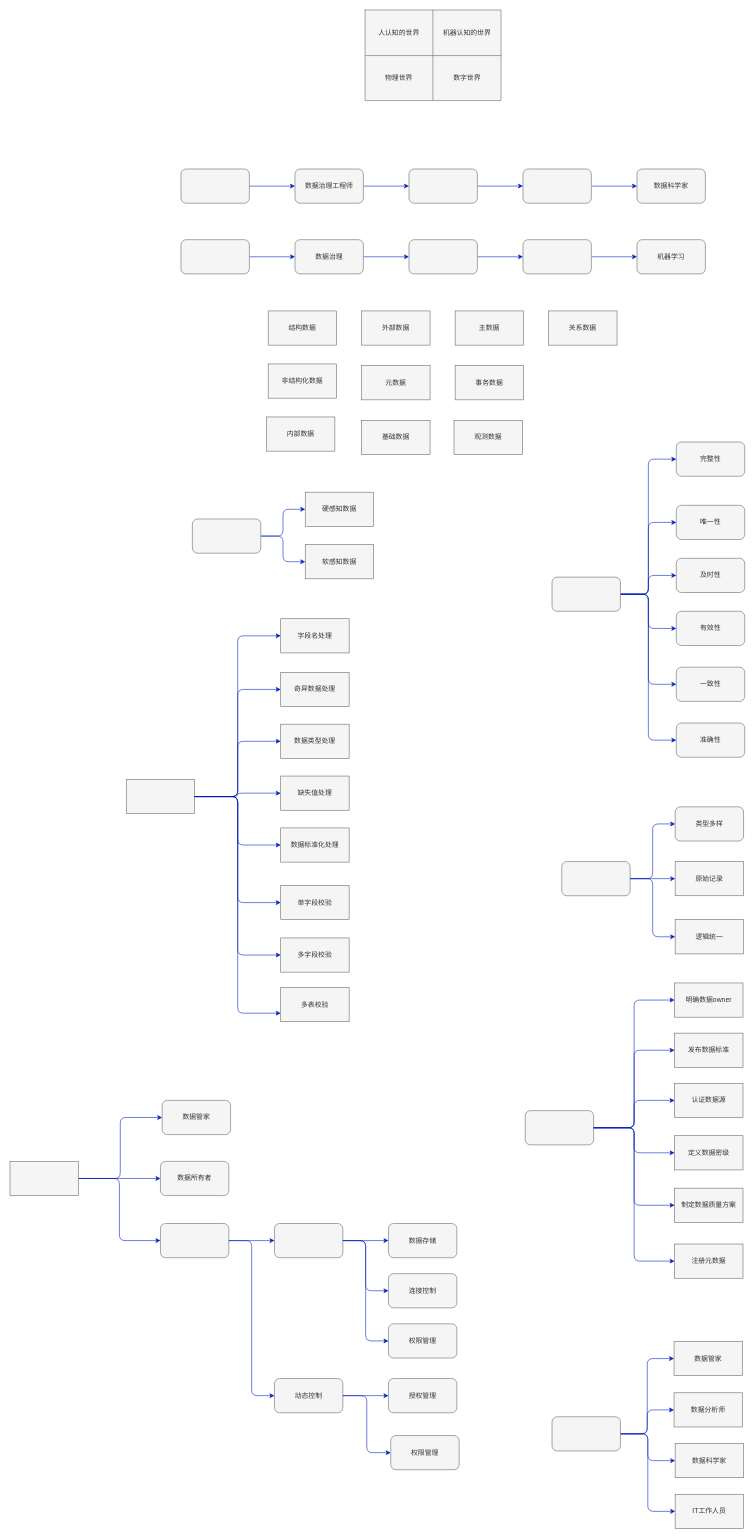
The diagram is 755 pixels wide and 1538 high, and some of its shapes have lost their labels. Here are the shapes that lost their labels. From the top down, the centre of each, then its label:
the point at 214,185: 数据架构师
the point at 442,185: 数据平台管理工程师
the point at 556,185: 数据分析工程师
the point at 214,256: 数据架构分析
the point at 442,256: 数据入湖
the point at 556,256: 特征工程
the point at 226,535: 数据来源
the point at 585,594: 数据质量标准
the point at 160,796: 数据处理流程图
the point at 595,878: 数据湖特点
the point at 559,1127: 数据入湖步骤
the point at 43,1178: 行政类
the point at 194,1240: 数据安全控制
the point at 308,1240: 静态控制
the point at 585,1433: 数据使用者
